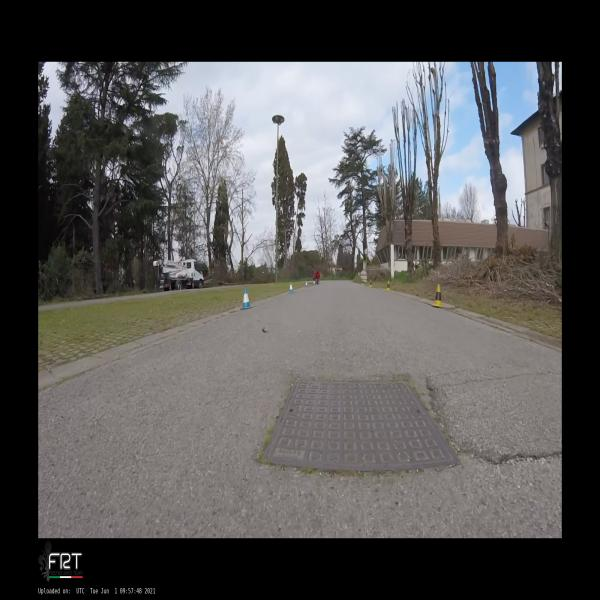blue_cone: (240, 288, 254, 308), (288, 281, 295, 293), (306, 280, 308, 287), (313, 280, 315, 284)
yellow_cone: (432, 283, 443, 308), (386, 280, 390, 292), (370, 280, 372, 286)
